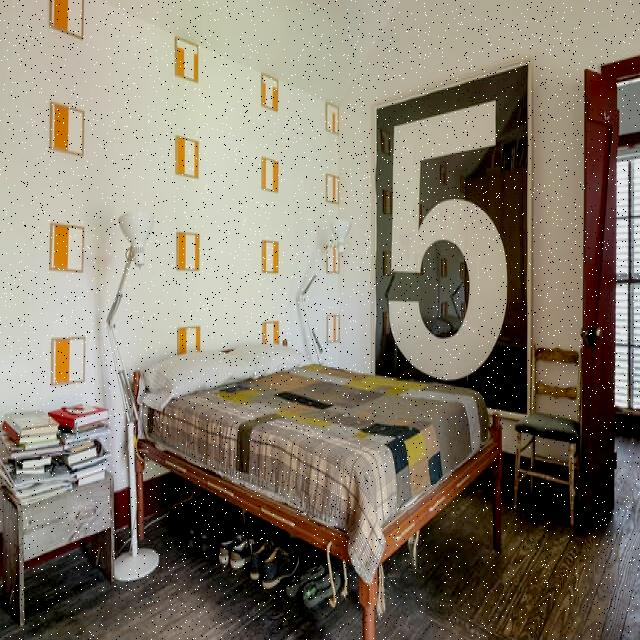bed: (142, 331, 510, 525)
